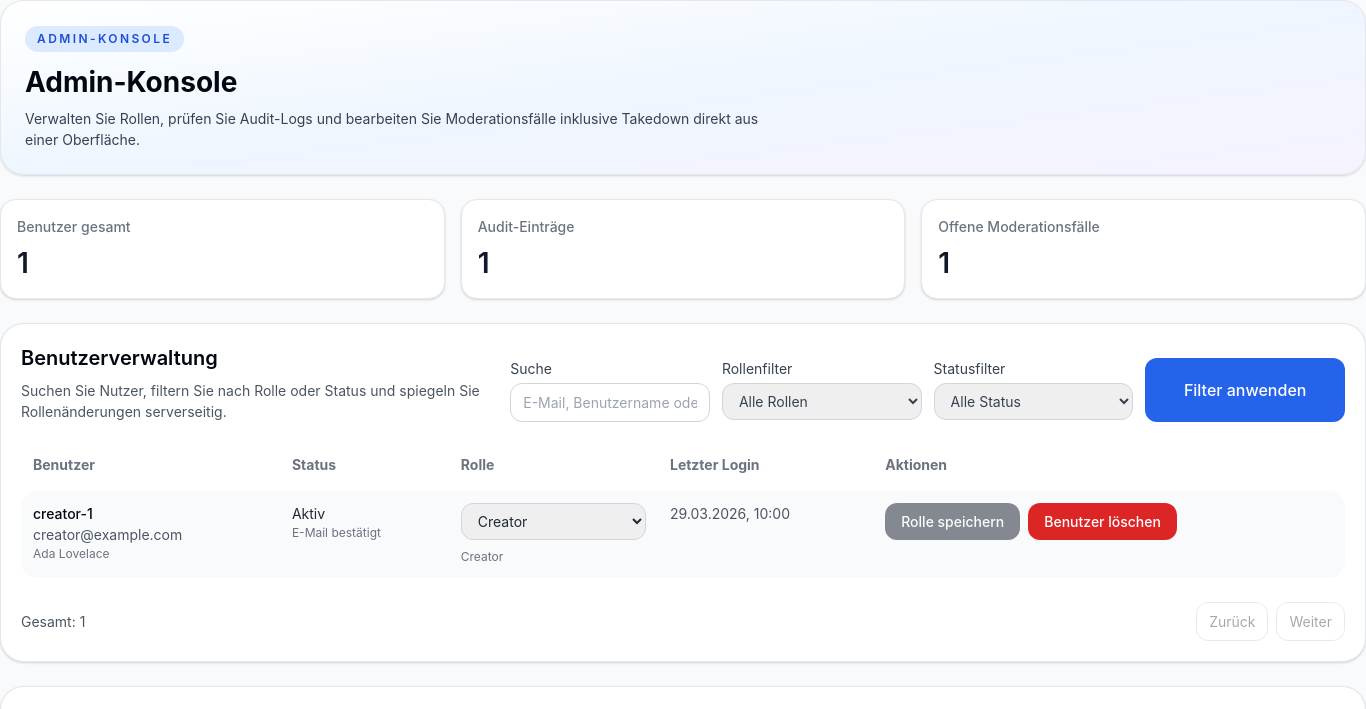
Test case: AdminPanelPage › updates a user role from the admin panel
The width and height of the screenshot is (1366, 709).
Select "Moderator" in the dropdown named "Rolle creator-1" at (553, 521), box x1=461 y1=503 x2=646 y2=540
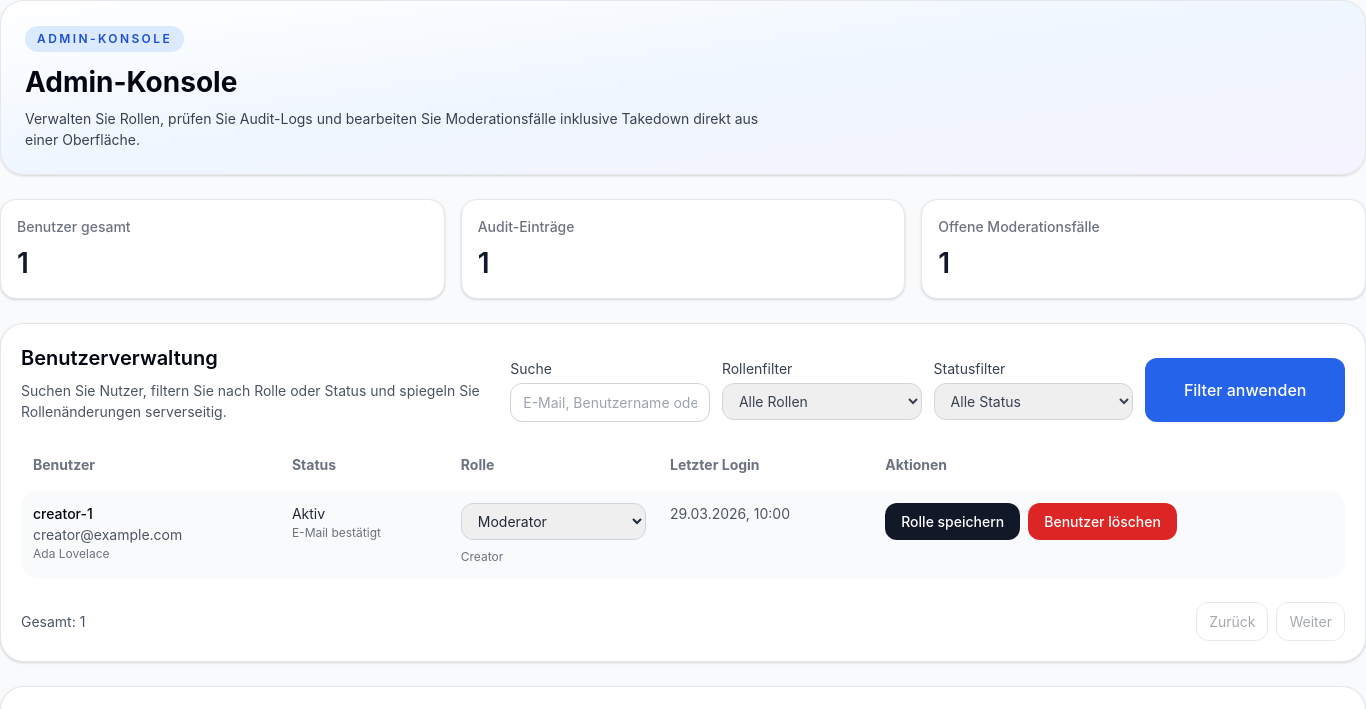
Click the button "Rolle speichern" at (953, 521), box x1=885 y1=503 x2=1020 y2=540
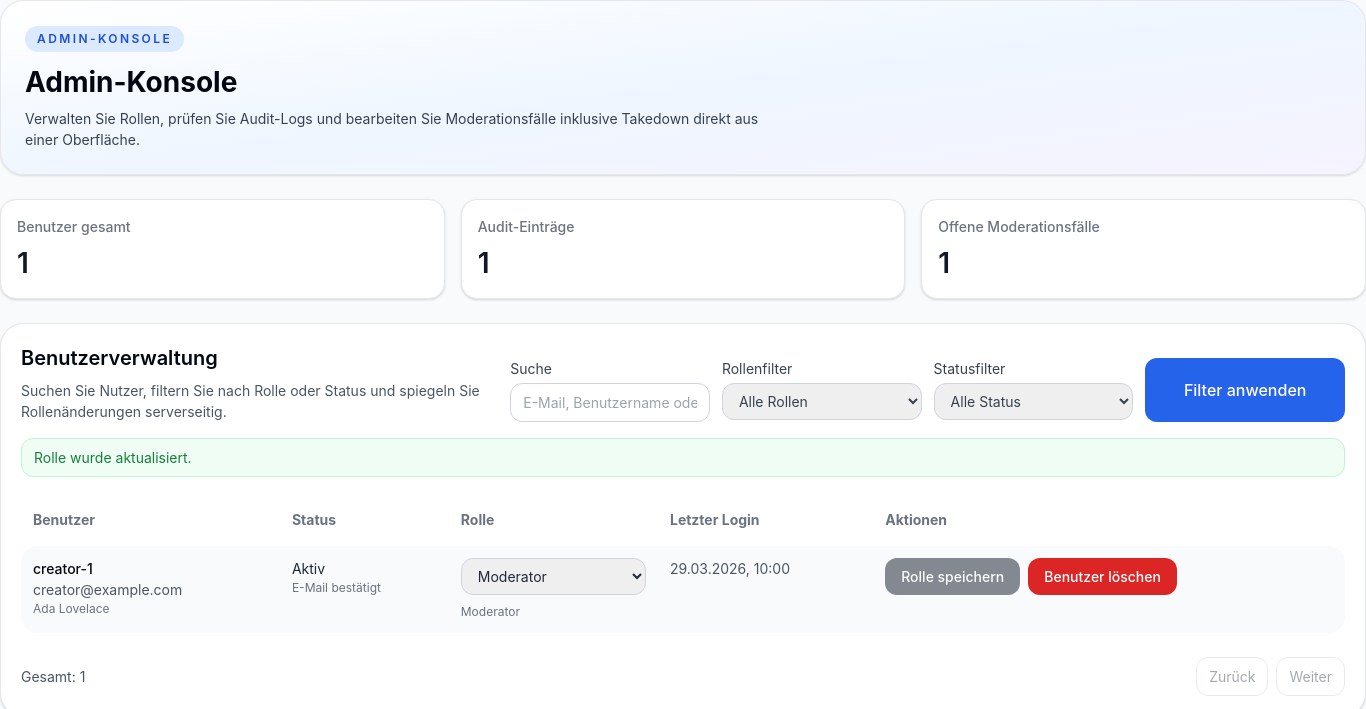
Expected: the text "Rolle wurde aktualisiert." is shown, x1=21 y1=438 x2=1345 y2=477
